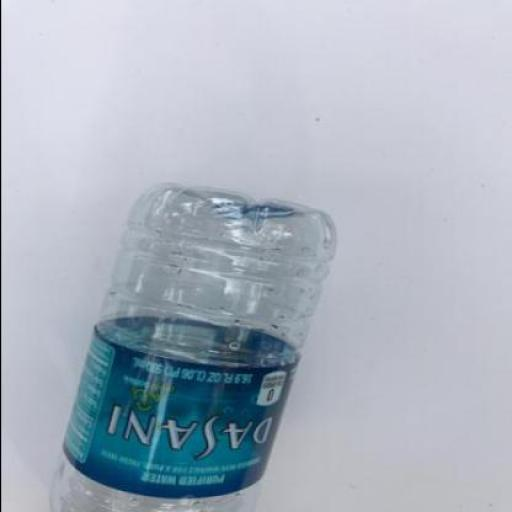plastic: (52, 182, 336, 512), (63, 317, 303, 497)
